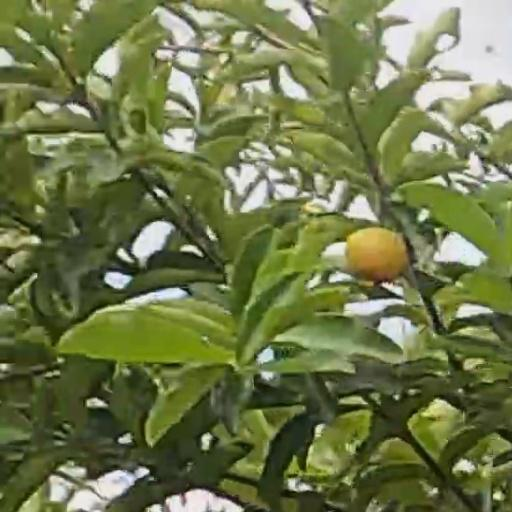acerola: (344, 226, 409, 282)
